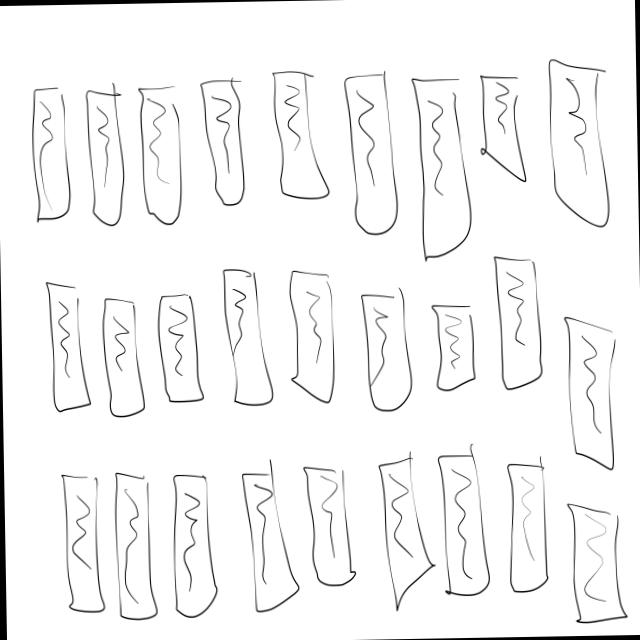Text: (538, 62, 613, 242), (556, 294, 631, 471), (338, 38, 400, 250), (414, 65, 473, 272), (266, 52, 329, 225), (371, 453, 438, 614), (240, 451, 300, 622), (435, 440, 495, 607), (131, 69, 186, 251), (198, 46, 254, 223), (280, 255, 345, 406), (104, 458, 161, 630), (492, 230, 548, 400), (219, 253, 274, 424), (359, 271, 419, 424), (161, 462, 218, 621), (298, 456, 360, 601), (502, 445, 558, 604), (148, 273, 206, 425), (80, 66, 128, 240), (48, 267, 92, 454), (568, 492, 624, 634), (58, 462, 104, 631), (96, 280, 146, 430), (21, 80, 70, 230), (476, 63, 525, 206), (428, 288, 484, 406)
